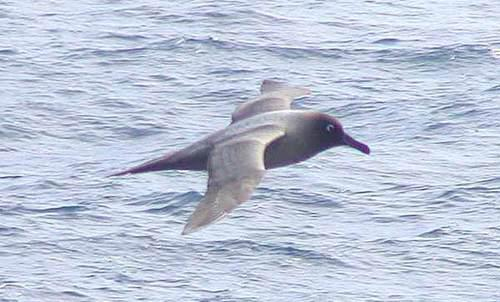003.Sooty_Albatross: (104, 79, 374, 238)
